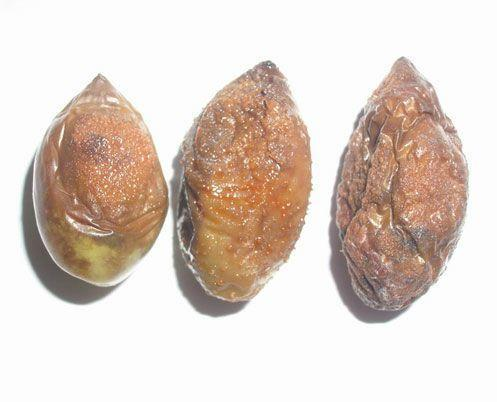Anthracnose: (329, 57, 471, 314), (174, 59, 316, 304), (33, 73, 168, 290)
